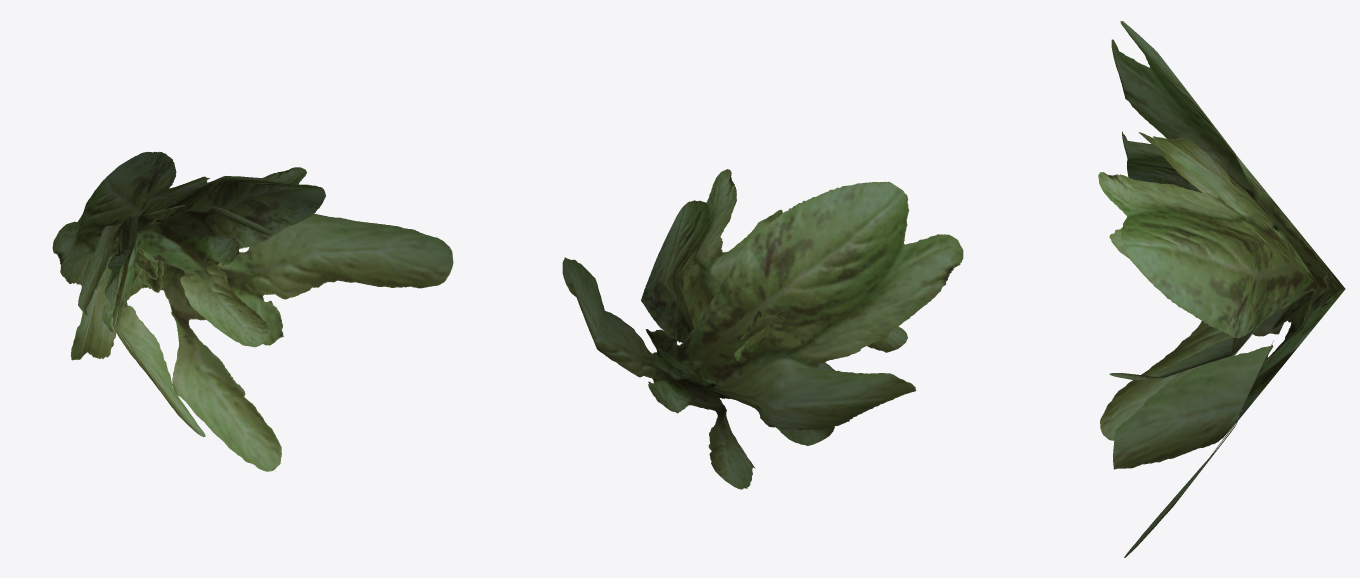
The model's file is nt_hydro_lettuce_seedling_LOD0.obj.
The picture shows the model from 3 angles, left to right: view 1: azimuth 30°, elevation 25°; view 2: azimuth 150°, elevation 25°; view 3: azimuth 270°, elevation 25°; orthographic projection. The views are drawn at different scales.
Visible parts, largest first — view 1: mtl_nt_hydro_lettuce_seedling; view 2: mtl_nt_hydro_lettuce_seedling; view 3: mtl_nt_hydro_lettuce_seedling.
Boxes of the visible parts, x1=… form: mtl_nt_hydro_lettuce_seedling: x1=52, y1=151, x2=453, y2=471; mtl_nt_hydro_lettuce_seedling: x1=562, y1=169, x2=963, y2=489; mtl_nt_hydro_lettuce_seedling: x1=1098, y1=21, x2=1345, y2=557.
Size of the model in its own units: 37.32 by 37.32 by 15.59.
